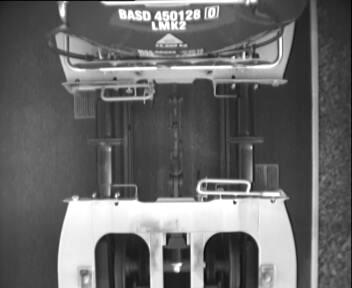Copy of Copy of Copy of wagon_scan: (86, 224, 268, 288)
